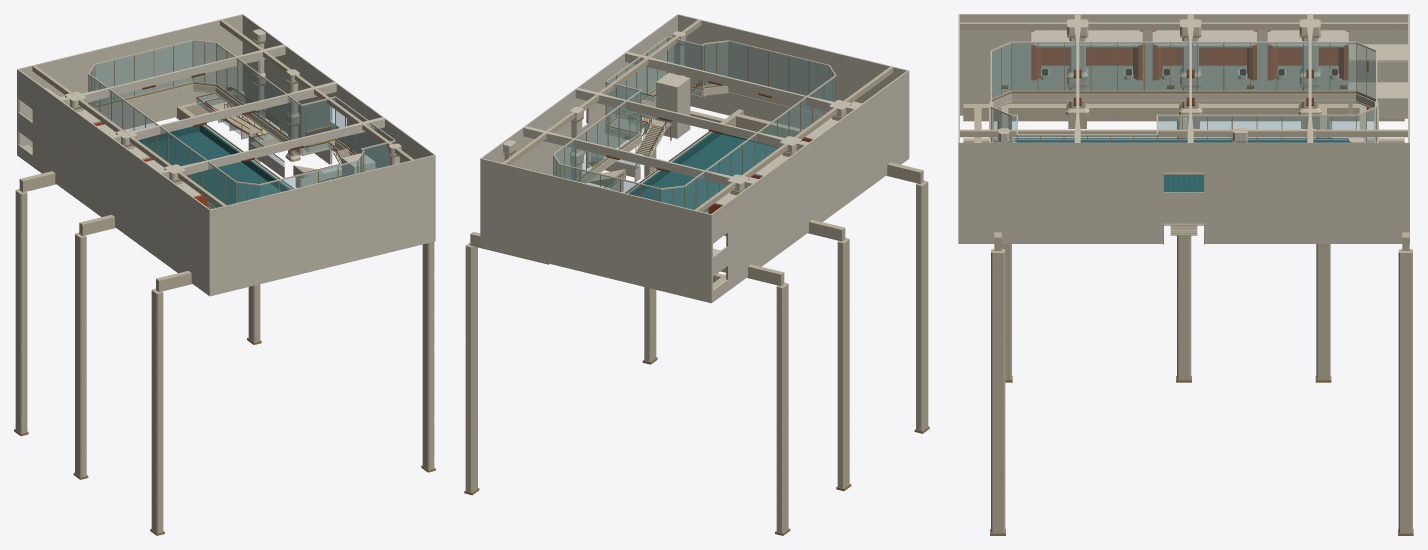
File: AST-AQU-016.glb
3 views of the same model, side by side, from view 1: azimuth 30°, elevation 25°; view 2: azimuth 150°, elevation 25°; view 3: azimuth 270°, elevation 25° (orthographic). The views are drawn at different scales.
Visible parts, largest first — view 1: GPM_CELL_-2_-20_6_ASTRAEA_ivory_enamel_concave_static_surfac, GPM_CELL_-2_-24_6_ASTRAEA_ivory_enamel_concave_static_surfac, GPM_CELL_-3_-22_6_ASTRAEA_ivory_enamel_concave_static_surfac, GPM_CELL_-3_-22_5_ASTRAEA_ivory_enamel_concave_static_surfac, GPM_CELL_-2_-22_5_ASTRAEA_aquatic_edge_tile_concave_static_s, GPM_CELL_-1_-23_6_ASTRAEA_ivory_enamel_concave_static_surfac, GPM_CELL_-1_-23_6_circulation_glass_concave_static_surface, GPM_CELL_-3_-22_6_circulation_glass_concave_static_surface, GPM_CELL_-4_-23_2_ASTRAEA_warm_stone_concave_static_surface, GPM_CELL_-4_-21_2_ASTRAEA_warm_stone_concave_static_surface, GPM_CELL_-1_-21_2_ASTRAEA_warm_stone_concave_static_surface, GPM_CELL_-4_-22_2_ASTRAEA_warm_stone_concave_static_surface (+23 smaller); view 2: GPM_CELL_-2_-24_6_ASTRAEA_ivory_enamel_concave_static_surfac, GPM_CELL_-2_-20_6_ASTRAEA_ivory_enamel_concave_static_surfac, GPM_CELL_-3_-22_6_ASTRAEA_ivory_enamel_concave_static_surfac, GPM_CELL_-3_-22_5_ASTRAEA_ivory_enamel_concave_static_surfac, GPM_CELL_-2_-22_5_ASTRAEA_aquatic_edge_tile_concave_static_s, GPM_CELL_-1_-21_6_ASTRAEA_ivory_enamel_concave_static_surfac, GPM_CELL_-3_-22_6_circulation_glass_concave_static_surface, GPM_CELL_-2_-21_6_circulation_glass_concave_static_surface, GPM_CELL_-4_-21_2_ASTRAEA_warm_stone_concave_static_surface, GPM_CELL_-4_-23_2_ASTRAEA_warm_stone_concave_static_surface, GPM_CELL_-4_-22_2_ASTRAEA_warm_stone_concave_static_surface, GPM_CELL_-1_-24_2_ASTRAEA_warm_stone_concave_static_surface (+23 smaller); view 3: GPM_CELL_-3_-22_6_circulation_glass_concave_static_surface, GPM_CELL_-3_-22_6_ASTRAEA_ivory_enamel_concave_static_surfac, GPM_CELL_-1_-23_6_ASTRAEA_ivory_enamel_concave_static_surfac, GPM_CELL_-1_-21_6_ASTRAEA_ivory_enamel_concave_static_surfac, GPM_CELL_-1_-23_5_ASTRAEA_ivory_enamel_concave_static_surfac, GPM_CELL_-1_-21_5_ASTRAEA_ivory_enamel_concave_static_surfac, GPM_CELL_-3_-22_5_ASTRAEA_ivory_enamel_concave_static_surfac, GPM_CELL_-3_-22_5_ASTRAEA_warm_stone_concave_static_surface, GPM_CELL_-1_-24_2_ASTRAEA_warm_stone_concave_static_surface, GPM_CELL_-1_-21_2_ASTRAEA_warm_stone_concave_static_surface, GPM_CELL_-1_-23_6_circulation_glass_concave_static_surface, GPM_CELL_-1_-22_7_ASTRAEA_warm_stone_concave_static_surface (+27 smaller).
Boxes of the visible parts, x1,y1,x2,y2 form: GPM_CELL_-2_-20_6_ASTRAEA_ivory_enamel_concave_static_surfac: (209, 154, 435, 295); GPM_CELL_-2_-24_6_ASTRAEA_ivory_enamel_concave_static_surfac: (17, 14, 243, 153); GPM_CELL_-3_-22_6_ASTRAEA_ivory_enamel_concave_static_surfac: (17, 80, 212, 253); GPM_CELL_-3_-22_5_ASTRAEA_ivory_enamel_concave_static_surfac: (17, 124, 211, 296); GPM_CELL_-2_-22_5_ASTRAEA_aquatic_edge_tile_concave_static_s: (146, 125, 290, 207); GPM_CELL_-1_-23_6_ASTRAEA_ivory_enamel_concave_static_surfac: (193, 14, 330, 154); GPM_CELL_-1_-23_6_circulation_glass_concave_static_surface: (193, 41, 300, 139); GPM_CELL_-3_-22_6_circulation_glass_concave_static_surface: (89, 76, 235, 207); GPM_CELL_-4_-23_2_ASTRAEA_warm_stone_concave_static_surface: (15, 189, 27, 433); GPM_CELL_-4_-21_2_ASTRAEA_warm_stone_concave_static_surface: (151, 288, 163, 533); GPM_CELL_-1_-21_2_ASTRAEA_warm_stone_concave_static_surface: (422, 242, 434, 469); GPM_CELL_-4_-22_2_ASTRAEA_warm_stone_concave_static_surface: (75, 232, 86, 477); GPM_CELL_-2_-24_6_ASTRAEA_ivory_enamel_concave_static_surfac: (480, 158, 712, 302); GPM_CELL_-2_-20_6_ASTRAEA_ivory_enamel_concave_static_surfac: (678, 14, 909, 158); GPM_CELL_-3_-22_6_ASTRAEA_ivory_enamel_concave_static_surfac: (710, 70, 909, 259); GPM_CELL_-3_-22_5_ASTRAEA_ivory_enamel_concave_static_surfac: (710, 116, 909, 303); GPM_CELL_-2_-22_5_ASTRAEA_aquatic_edge_tile_concave_static_s: (628, 132, 776, 212); GPM_CELL_-1_-21_6_ASTRAEA_ivory_enamel_concave_static_surfac: (587, 14, 728, 131); GPM_CELL_-3_-22_6_circulation_glass_concave_static_surface: (685, 77, 835, 212); GPM_CELL_-2_-21_6_circulation_glass_concave_static_surface: (729, 42, 828, 100); GPM_CELL_-4_-21_2_ASTRAEA_warm_stone_concave_static_surface: (916, 180, 928, 430); GPM_CELL_-4_-23_2_ASTRAEA_warm_stone_concave_static_surface: (776, 282, 788, 533); GPM_CELL_-4_-22_2_ASTRAEA_warm_stone_concave_static_surface: (837, 238, 849, 488); GPM_CELL_-1_-24_2_ASTRAEA_warm_stone_concave_static_surface: (465, 242, 477, 492); GPM_CELL_-3_-22_6_circulation_glass_concave_static_surface: (1012, 44, 1355, 90); GPM_CELL_-3_-22_6_ASTRAEA_ivory_enamel_concave_static_surfac: (958, 14, 1372, 100); GPM_CELL_-1_-23_6_ASTRAEA_ivory_enamel_concave_static_surfac: (1204, 128, 1409, 192); GPM_CELL_-1_-21_6_ASTRAEA_ivory_enamel_concave_static_surfac: (958, 128, 1163, 192); GPM_CELL_-1_-23_5_ASTRAEA_ivory_enamel_concave_static_surfac: (1204, 194, 1409, 243); GPM_CELL_-1_-21_5_ASTRAEA_ivory_enamel_concave_static_surfac: (958, 194, 1163, 243); GPM_CELL_-3_-22_5_ASTRAEA_ivory_enamel_concave_static_surfac: (960, 66, 1372, 115); GPM_CELL_-3_-22_5_ASTRAEA_warm_stone_concave_static_surface: (963, 78, 1404, 142); GPM_CELL_-1_-24_2_ASTRAEA_warm_stone_concave_static_surface: (1398, 249, 1412, 533); GPM_CELL_-1_-21_2_ASTRAEA_warm_stone_concave_static_surface: (991, 249, 1005, 533); GPM_CELL_-1_-23_6_circulation_glass_concave_static_surface: (1158, 109, 1376, 142); GPM_CELL_-1_-22_7_ASTRAEA_warm_stone_concave_static_surface: (960, 129, 1407, 137).
Bounding box in the file's own units: 56.2 × 63.96 × 68.6.
Materials: 11 (9 with a texture image).
